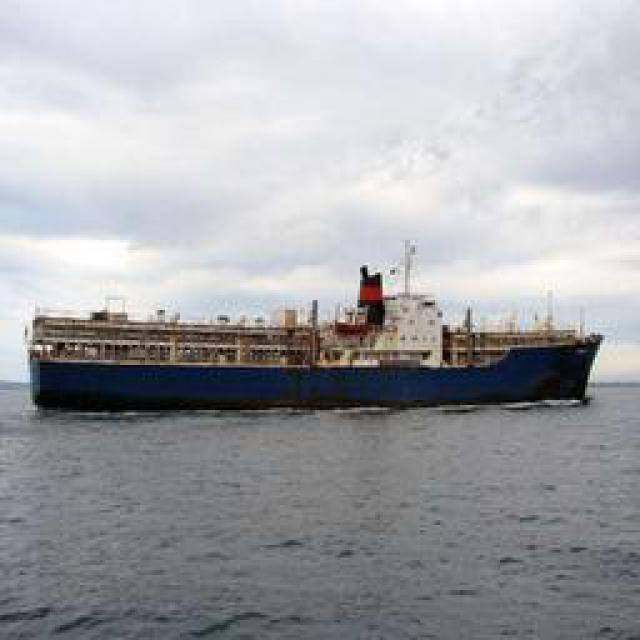Ship: (45, 306, 603, 416)
